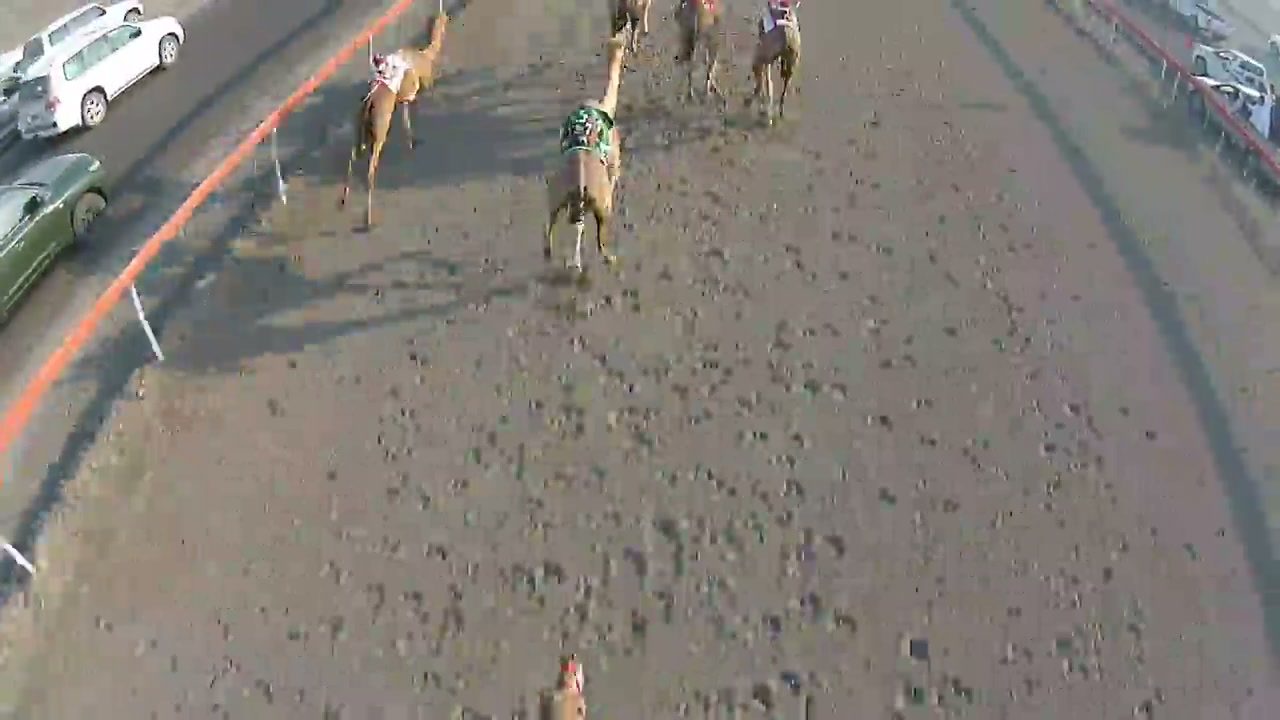animal_footprint: (271, 51, 1171, 719)
